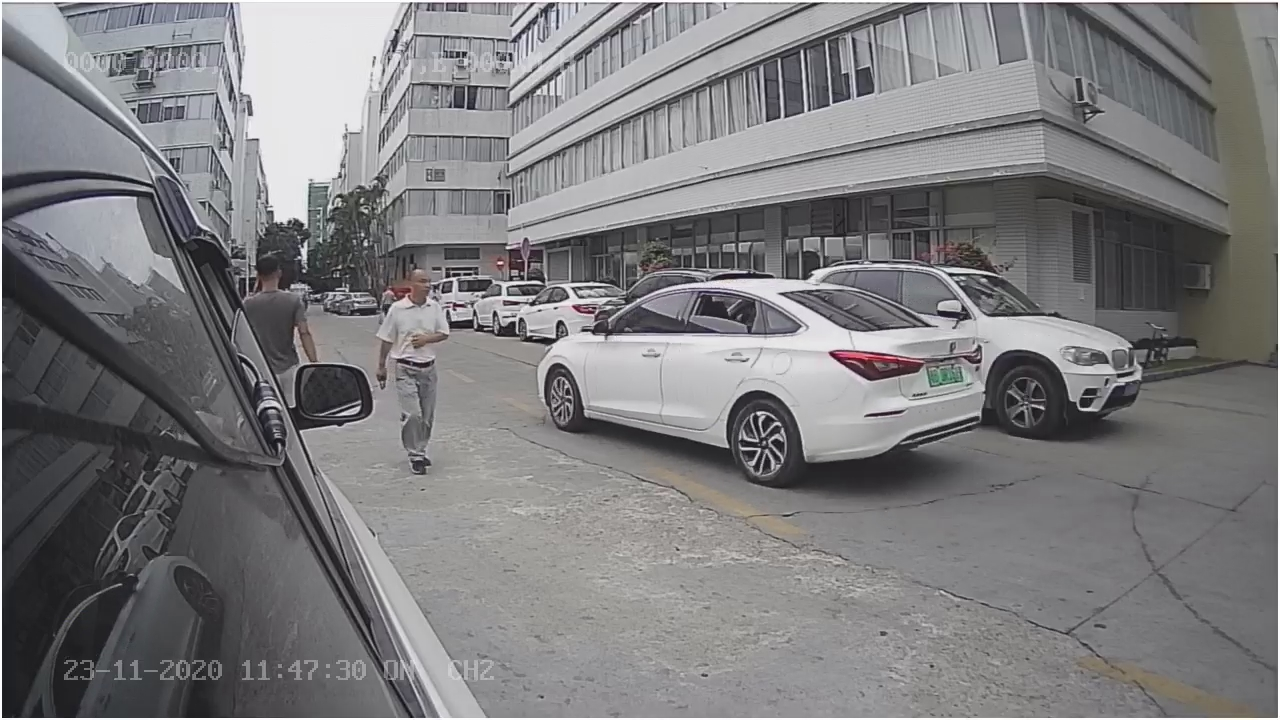person: (375, 243, 458, 474)
